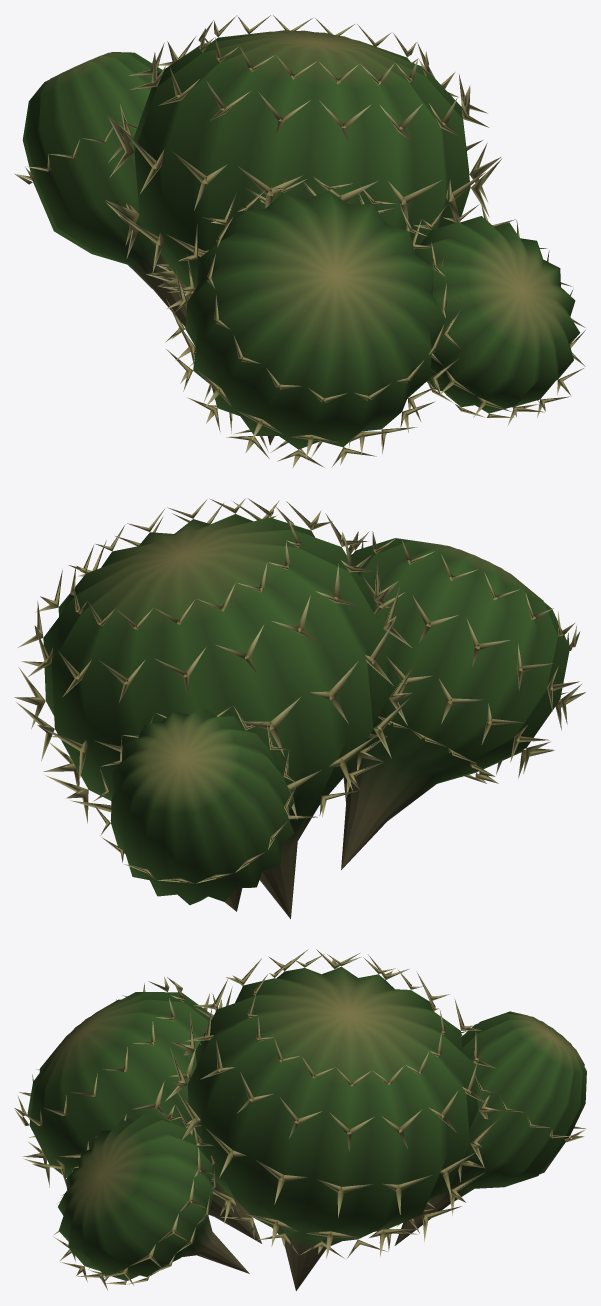
Rendered from plants-cacti-succulents-cactus-cluster_v3.fbx.
3 renders of one model, top to bottom at view 1: azimuth 30°, elevation 25°; view 2: azimuth 150°, elevation 25°; view 3: azimuth 270°, elevation 25°, orthographic. The views are drawn at different scales.
Visible parts, largest first — view 1: Cactus Cluster_v3; view 2: Cactus Cluster_v3; view 3: Cactus Cluster_v3.
Part boxes in pixels (x1,y1,x2,y2): Cactus Cluster_v3: (15, 15, 585, 467); Cactus Cluster_v3: (14, 498, 585, 918); Cactus Cluster_v3: (14, 949, 586, 1290).
Size of the model in its own units: 0.2803 by 0.2574 by 0.4.
